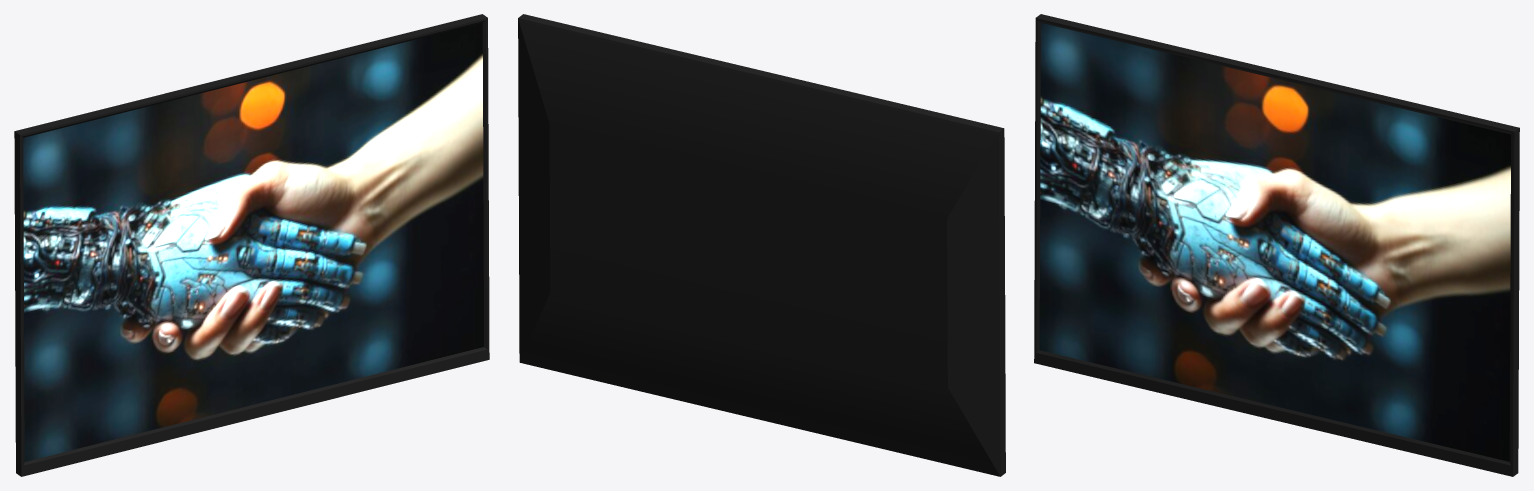
Rendered from DisplayScreenB.fbx.
3 renders of one model, left to right at view 1: azimuth 30°, elevation 25°; view 2: azimuth 150°, elevation 25°; view 3: azimuth 330°, elevation 25°, orthographic.
Visible parts, largest first — view 1: DisplayScreenB; view 2: DisplayScreenB; view 3: DisplayScreenB.
Part boxes in pixels (bbox=[...]): DisplayScreenB: bbox=[14, 14, 489, 476]; DisplayScreenB: bbox=[518, 14, 1005, 476]; DisplayScreenB: bbox=[1034, 14, 1519, 476].
Size of the model in its own units: 182 by 126 by 13.35.
